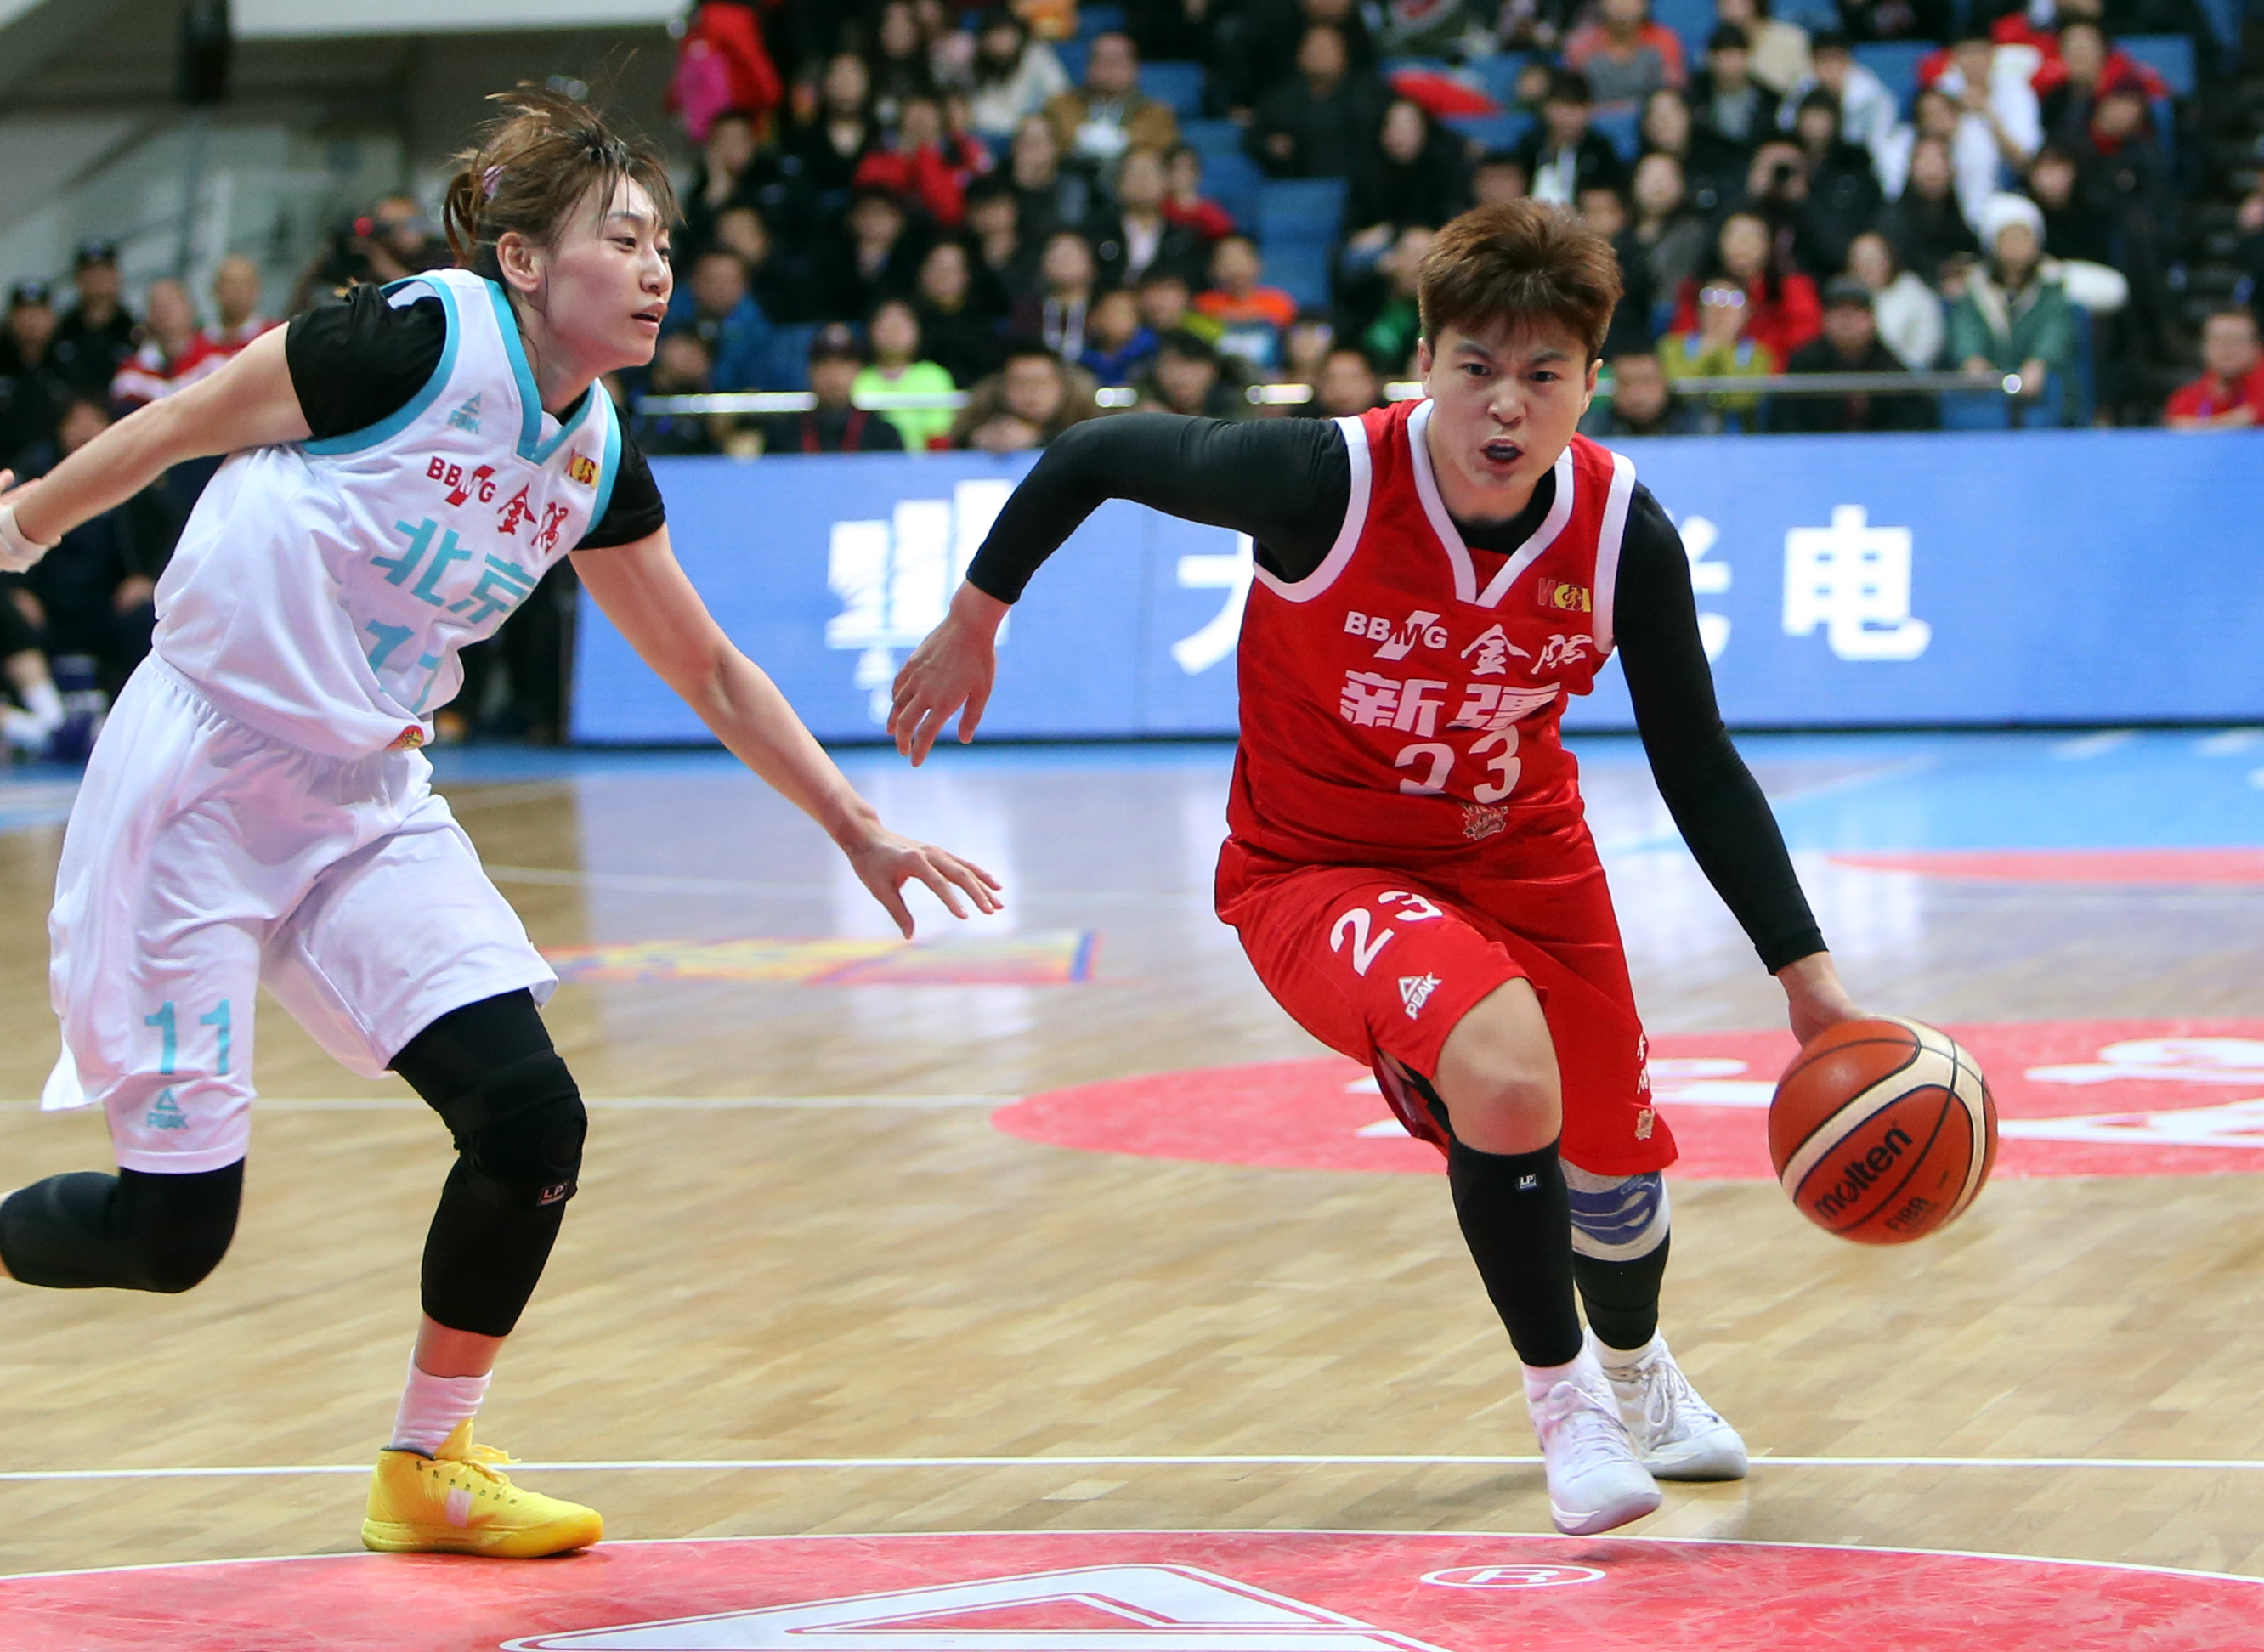ball: (1765, 1014, 1999, 1250)
